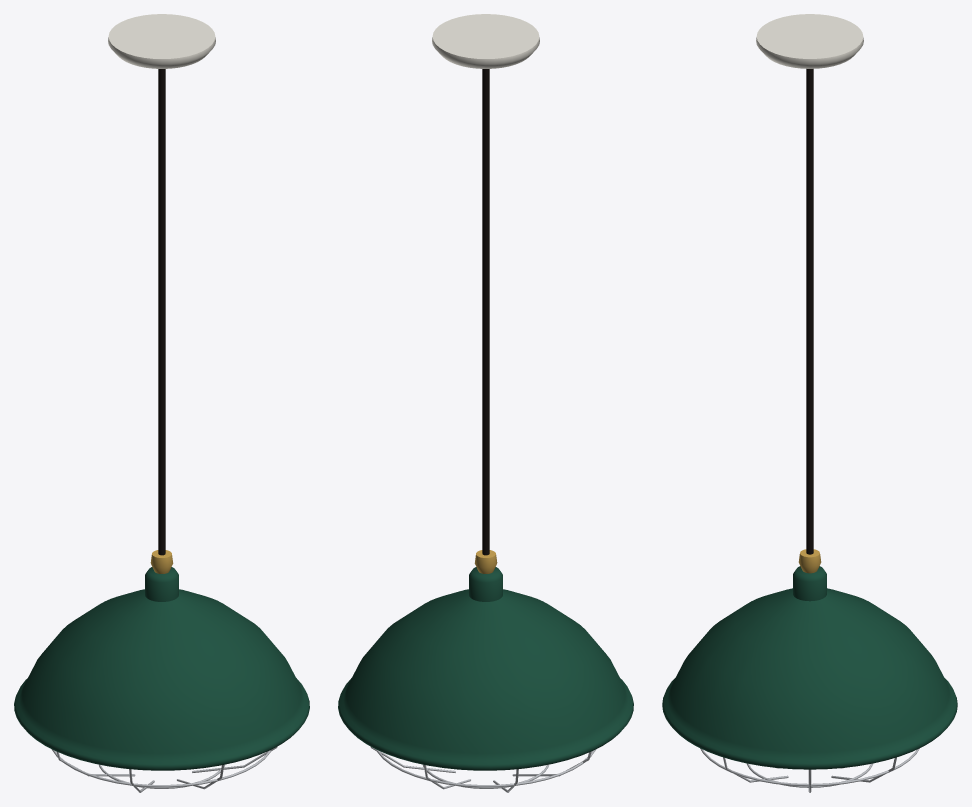
File: reu_suspension.glb
3 views of the same model, side by side, from view 1: azimuth 30°, elevation 25°; view 2: azimuth 150°, elevation 25°; view 3: azimuth 270°, elevation 25° (orthographic).
Visible parts, largest first — view 1: dome, rosace, cable, cage_anneau, cage_fil; view 2: dome, rosace, cable, cage_anneau, cage_fil; view 3: dome, rosace, cable, cage_anneau.
Boxes of the visible parts, left/top/right/bottom form: dome: left=14, top=567, right=309, bottom=770; rosace: left=108, top=14, right=215, bottom=68; cable: left=158, top=69, right=165, bottom=555; cage_anneau: left=51, top=749, right=270, bottom=788; cage_fil: left=56, top=746, right=277, bottom=792; dome: left=338, top=567, right=633, bottom=770; rosace: left=432, top=14, right=539, bottom=68; cable: left=482, top=69, right=489, bottom=555; cage_anneau: left=377, top=749, right=596, bottom=788; cage_fil: left=370, top=746, right=591, bottom=792; dome: left=662, top=566, right=957, bottom=769; rosace: left=756, top=14, right=863, bottom=68; cable: left=806, top=69, right=813, bottom=554; cage_anneau: left=700, top=748, right=919, bottom=787.
Bounding box in the file's own units: 0.471 × 1.29 × 0.471.
